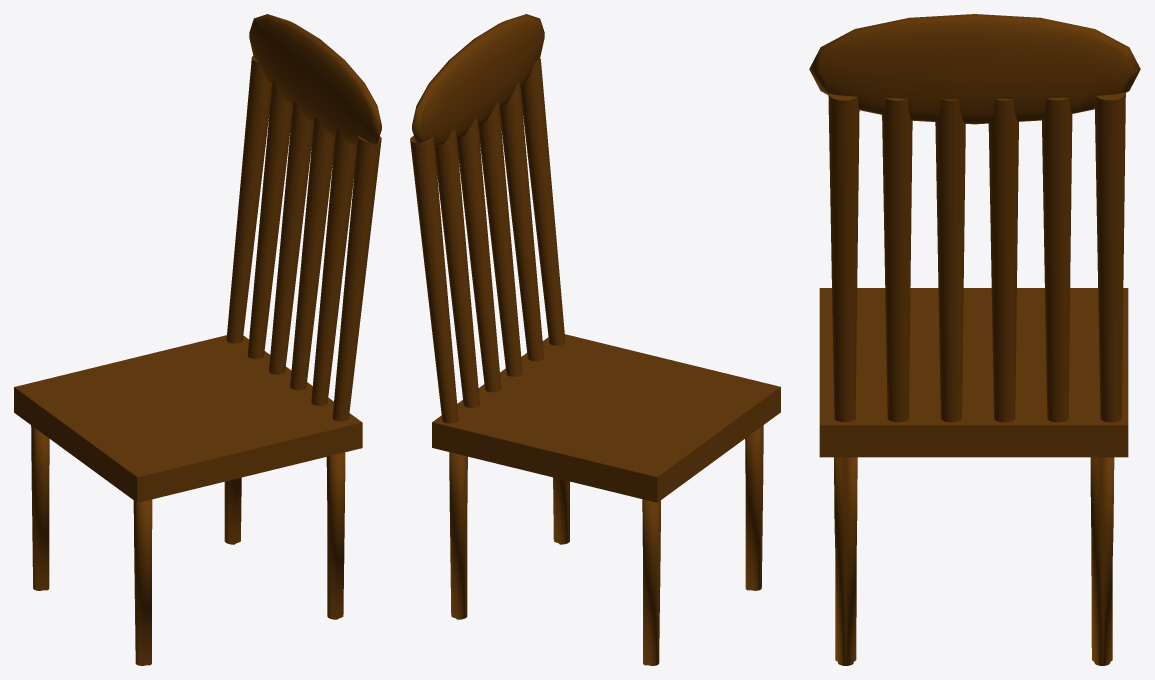
File: tuoli2.fbx
3 views of the same model, side by side, from view 1: azimuth 30°, elevation 25°; view 2: azimuth 150°, elevation 25°; view 3: azimuth 270°, elevation 25° (orthographic). The views are drawn at different scales.
Visible parts, largest first — view 1: Cube; view 2: Cube; view 3: Cube.
Boxes of the visible parts, x1,y1,x2,y2 form: Cube: (14,14,381,665); Cube: (410,14,780,665); Cube: (809,14,1140,665).
Size of the model in its own units: 59.08 by 119 by 53.71.
